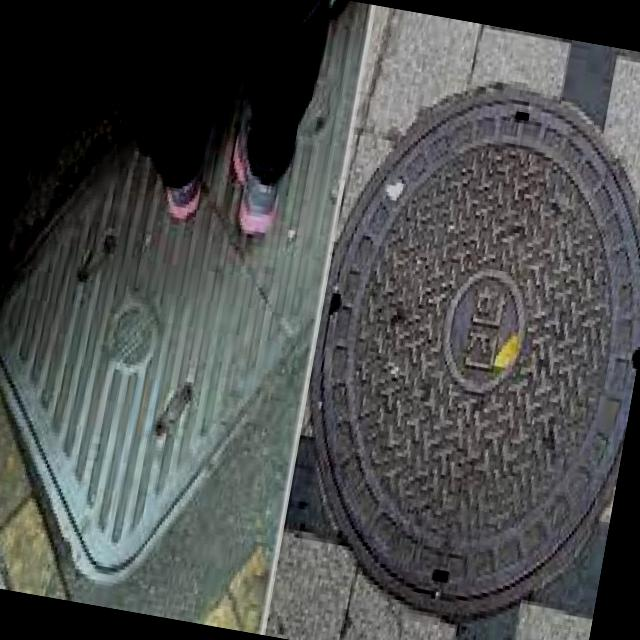manhole: (266, 58, 640, 640)
